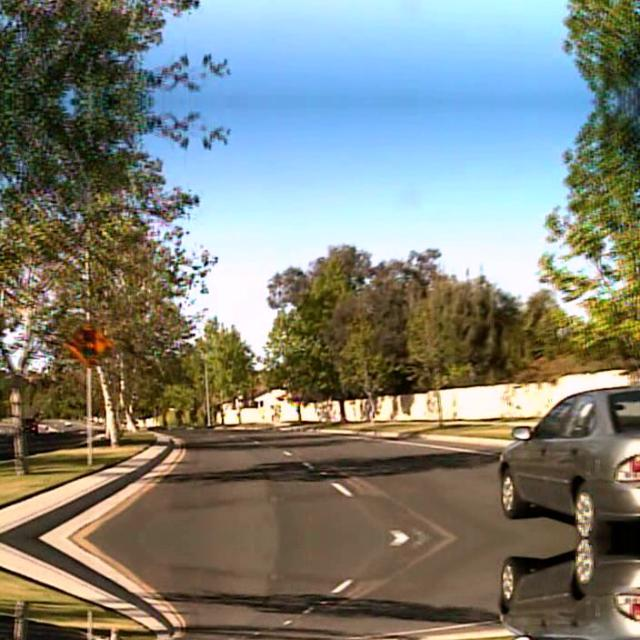signalAhead: (64, 320, 114, 366)
